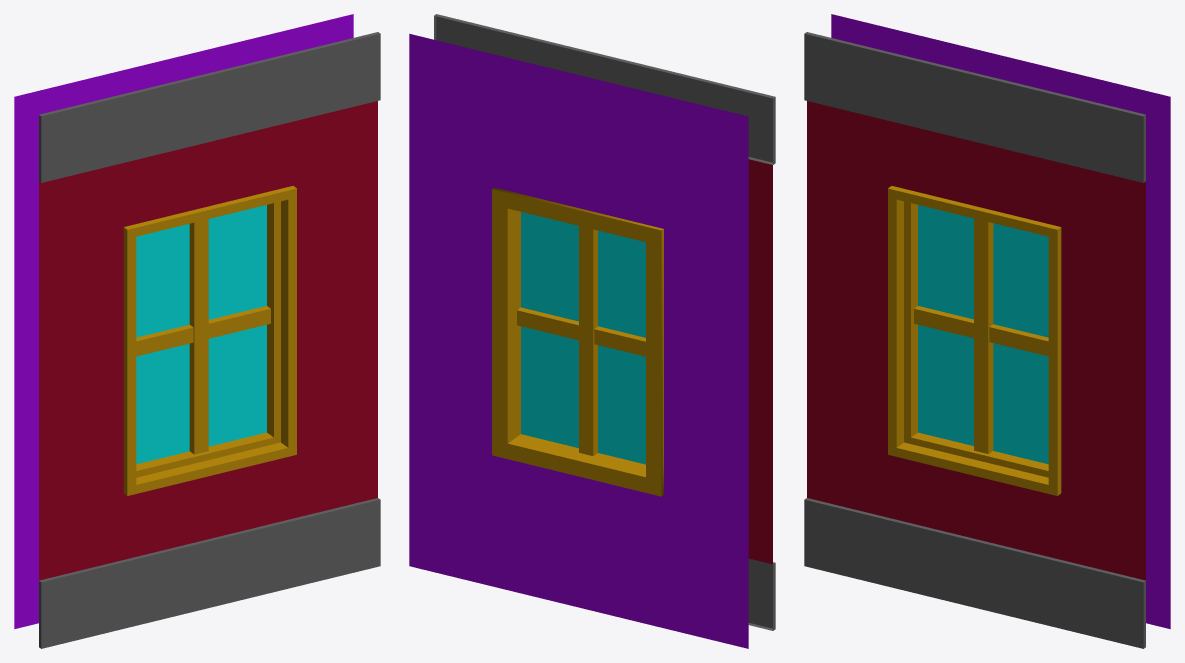
File: Window_01_2x3.fbx
3 views of the same model, side by side, from view 1: azimuth 30°, elevation 25°; view 2: azimuth 150°, elevation 25°; view 3: azimuth 330°, elevation 25° (orthographic).
Parts seen in each view (by area): view 1: Window_01_2x3; view 2: Window_01_2x3; view 3: Window_01_2x3.
Boxes of the visible parts, x1=… form: Window_01_2x3: x1=14, y1=14, x2=380, y2=648; Window_01_2x3: x1=409, y1=14, x2=775, y2=648; Window_01_2x3: x1=804, y1=14, x2=1170, y2=648.
Bounding box in the file's own units: 2 × 3 × 0.3106.
